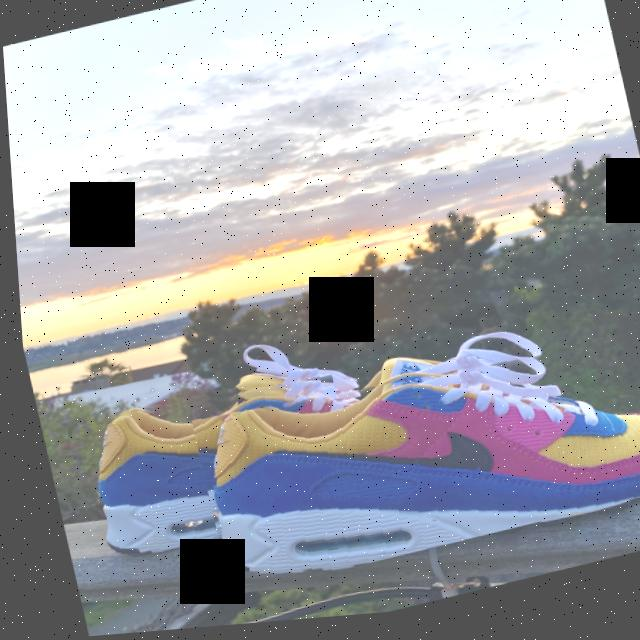shoe: (182, 316, 640, 602), (72, 366, 356, 566)
